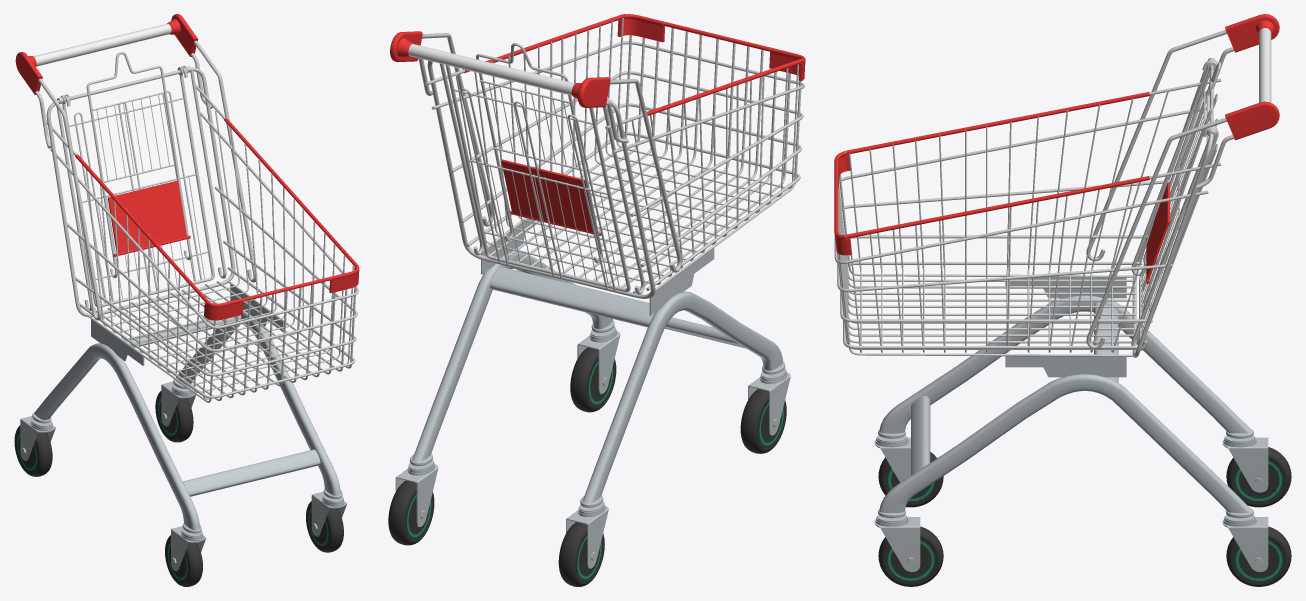
File: v_cart.glb
The picture shows the model from 3 angles, left to right: view 1: azimuth 30°, elevation 25°; view 2: azimuth 150°, elevation 25°; view 3: azimuth 270°, elevation 25°; orthographic projection. The views are drawn at different scales.
Visible parts, largest first — view 1: Object_6; view 2: Object_6; view 3: Object_6.
Part boxes in pixels (x1,y1,x2,y2): Object_6: (14, 14, 359, 586); Object_6: (388, 14, 805, 586); Object_6: (834, 14, 1291, 586).
Size of the model in its own units: 0.4333 by 1.05 by 0.8965.
Materials: 1 (1 with a texture image).
